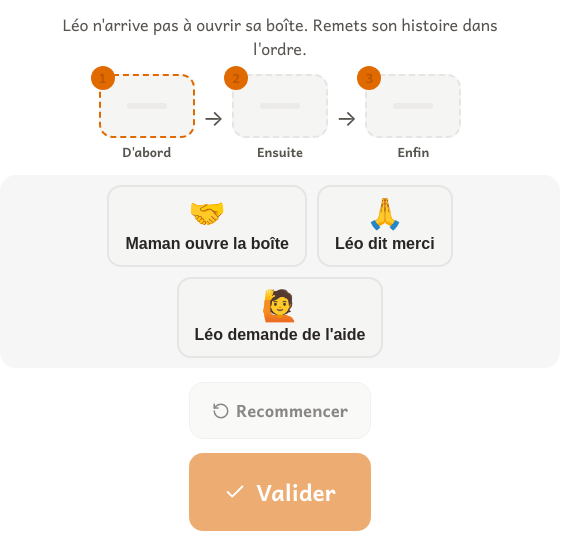
Test case: <RemiseEnOrdre> › 10bis : la solution est montree au 3e echec
Click the button "🙋 Léo demande de l'aide": (280,318) x1=176 y1=277 x2=384 y2=358
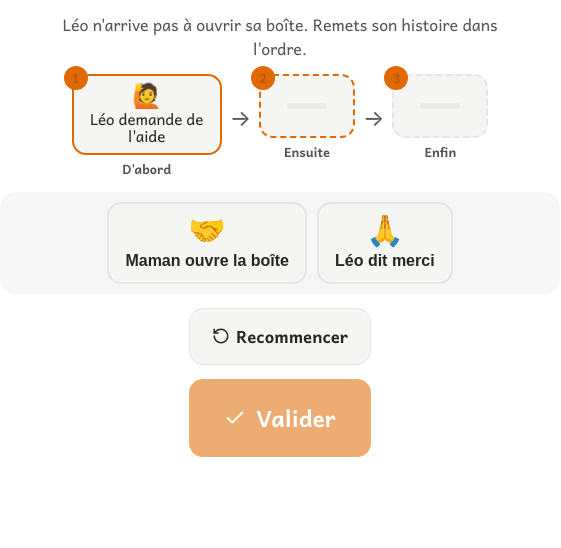
Click the button "🤝 Maman ouvre la boîte": (207,243) x1=107 y1=202 x2=307 y2=284
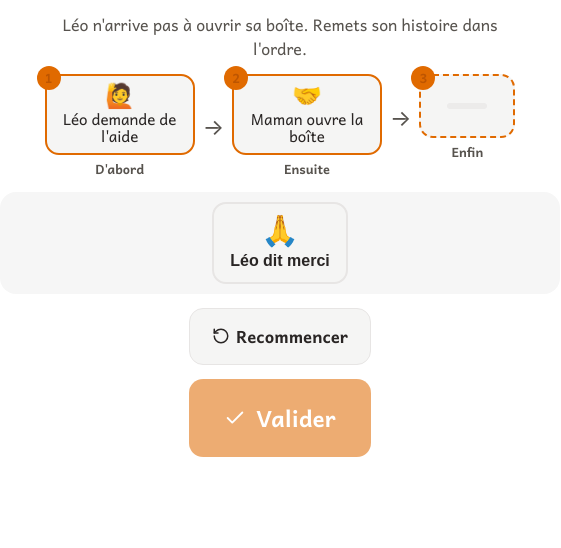
Click the button "🙏 Léo dit merci": (280,243) x1=212 y1=202 x2=348 y2=284
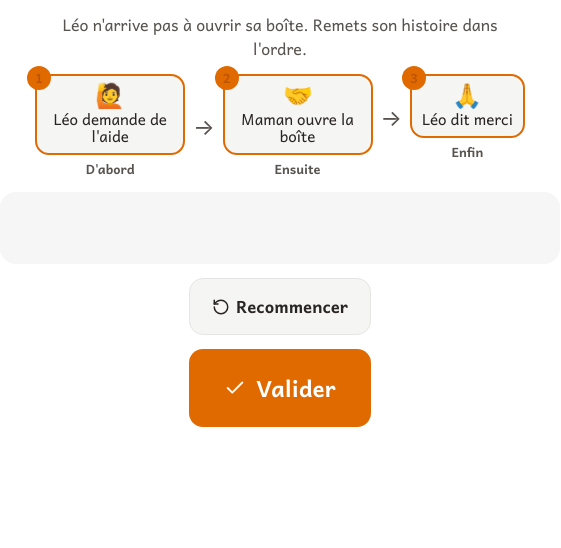
Click the button "Valider": (280,388) x1=189 y1=349 x2=371 y2=427
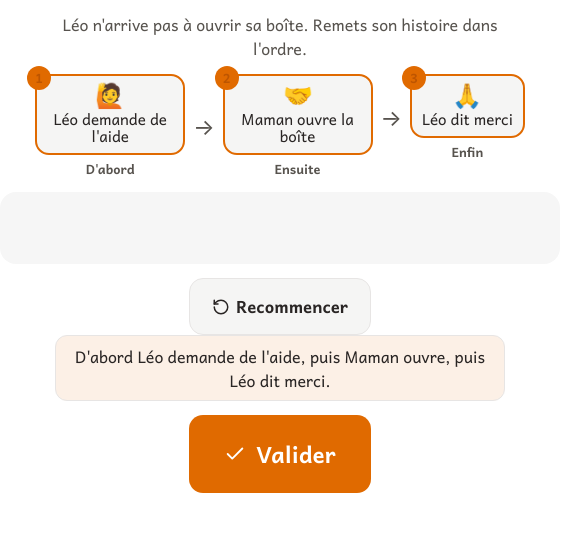
Click the button "Valider": (280,454) x1=189 y1=415 x2=371 y2=493
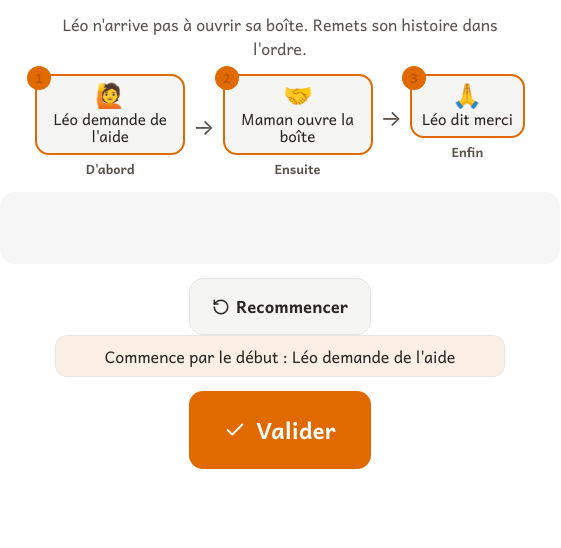
Click the button "Valider": (280,430) x1=189 y1=391 x2=371 y2=469
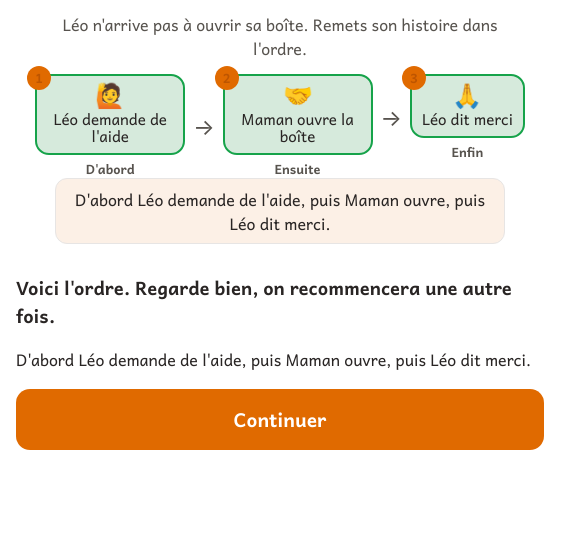
Expected: the button "Continuer" is shown, x1=16 y1=389 x2=544 y2=450
Expected: the text "Voici l'ordre. Regarde bien, on recommencera une autre fois." is shown, x1=16 y1=274 x2=544 y2=329
